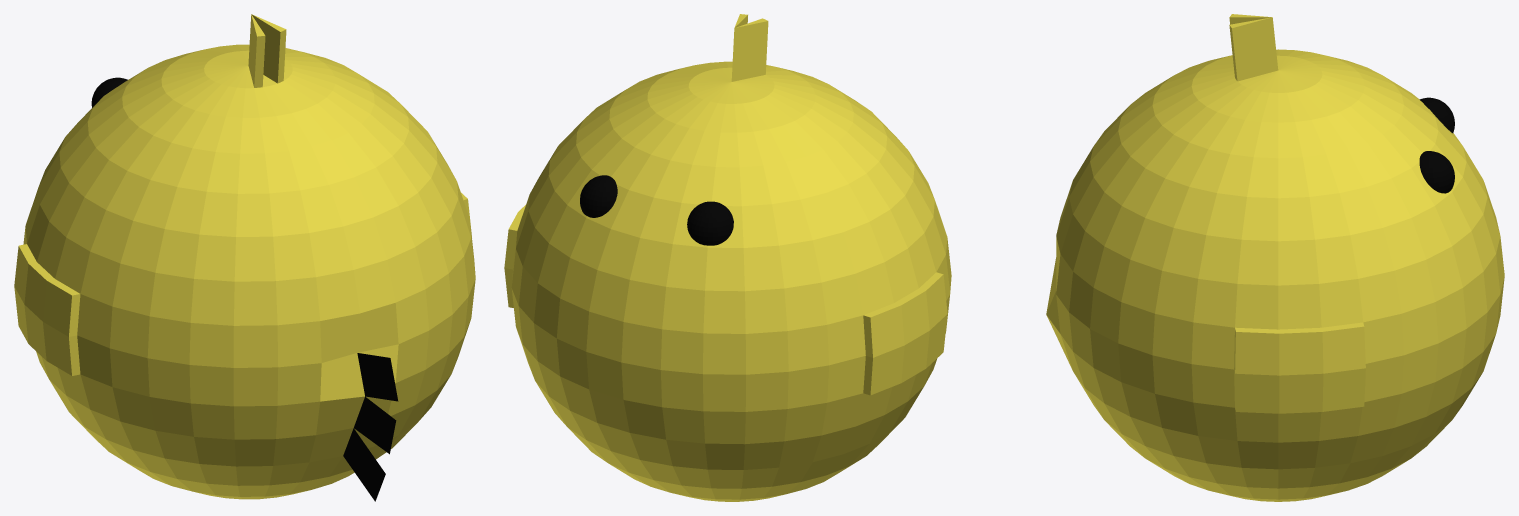
The model's file is bird.fbx.
3 renders of one model, left to right at view 1: azimuth 30°, elevation 25°; view 2: azimuth 150°, elevation 25°; view 3: azimuth 270°, elevation 25°, orthographic. The views are drawn at different scales.
Parts seen in each view (by area): view 1: Bird; view 2: Bird; view 3: Bird.
Part boxes in pixels (left/top/right/bottom): Bird: left=14, top=14, right=475, bottom=501; Bird: left=504, top=14, right=951, bottom=501; Bird: left=1046, top=14, right=1504, bottom=501.
Size of the model in its own units: 208 by 226 by 232.
